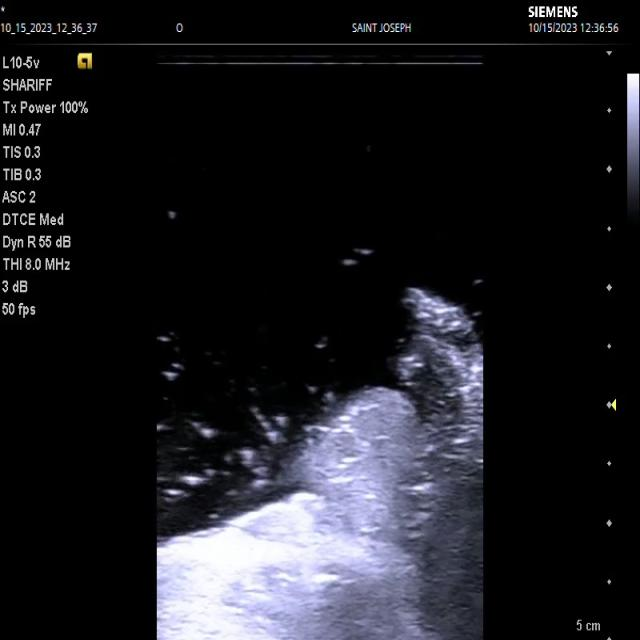tissue: (158, 292, 482, 640)
